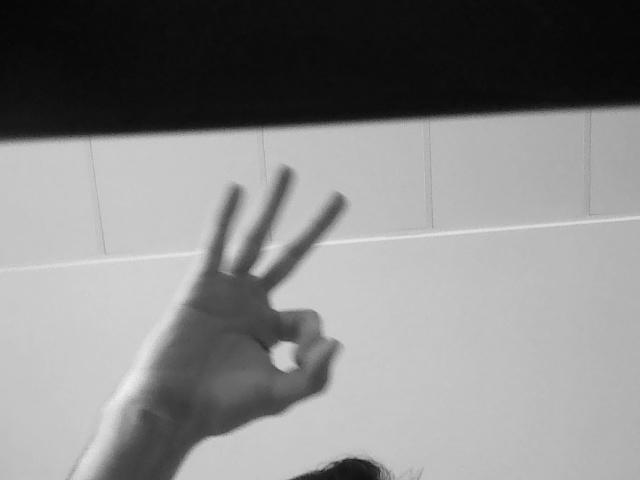OK: (140, 152, 354, 396)
